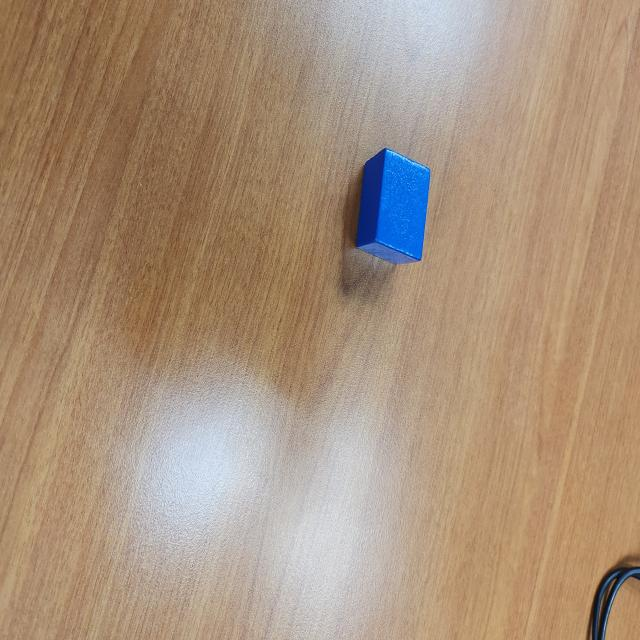blue: (354, 149, 430, 264)
